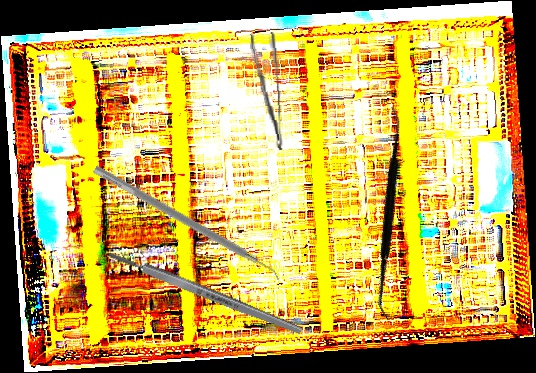Dressing Forceps: (249, 31, 285, 152)
Scalpel Handle: (106, 248, 304, 337)
Spatula Surgical: (299, 105, 482, 322), (87, 164, 287, 287)
